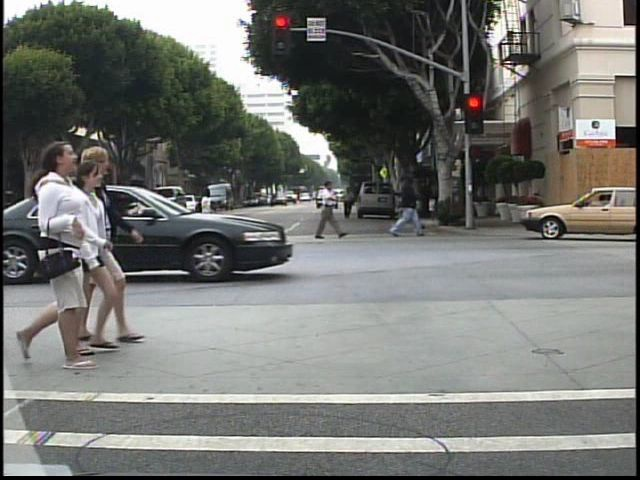person: (11, 144, 106, 375), (58, 162, 132, 365), (79, 146, 144, 350), (388, 167, 432, 240), (314, 176, 341, 241), (142, 188, 167, 251), (82, 189, 107, 246), (194, 183, 218, 241), (75, 183, 93, 247), (341, 185, 356, 221)
